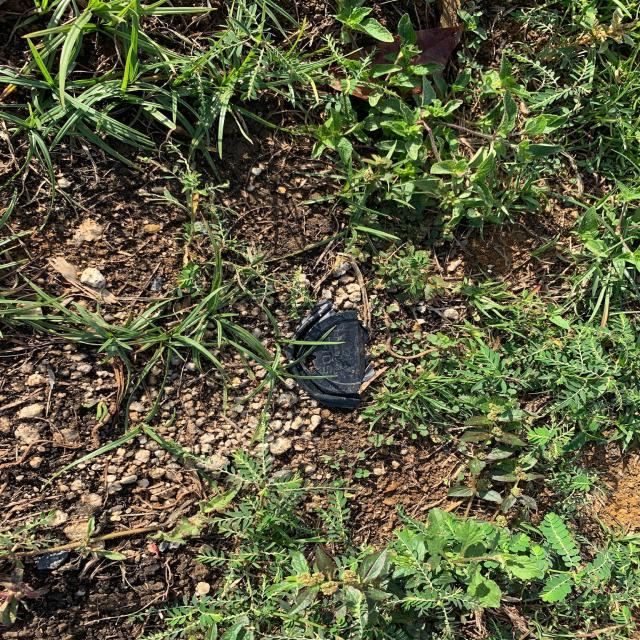litter: (282, 306, 365, 410)
